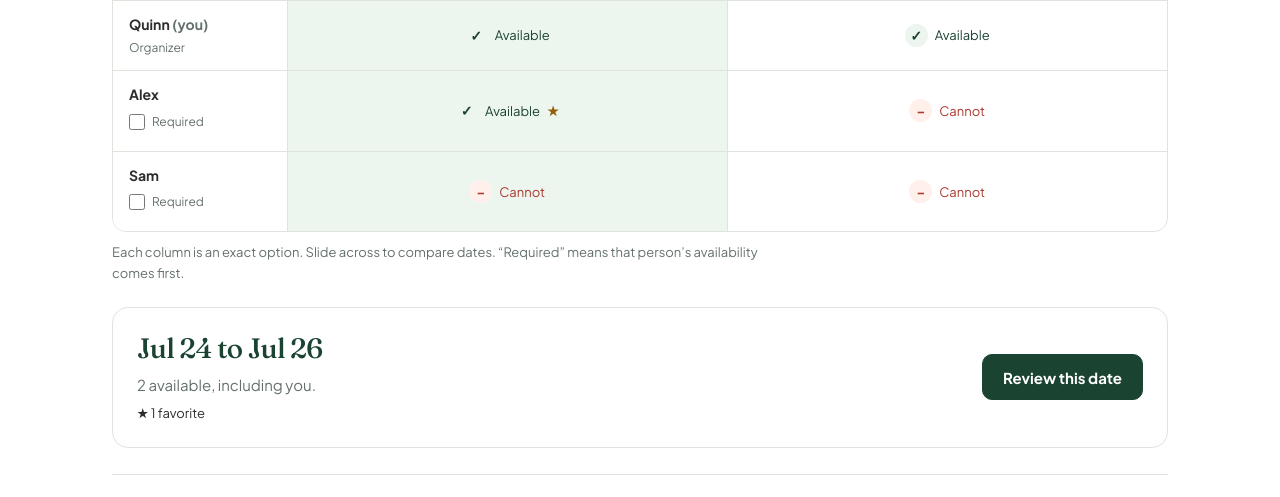
ManageTrip › confirms, retries the same date, displays confirmation, and reopens
(page scrolled)
Click the button with aria-label "Review Jul 24": (1062, 377) x1=982 y1=354 x2=1143 y2=400
(page scrolled)
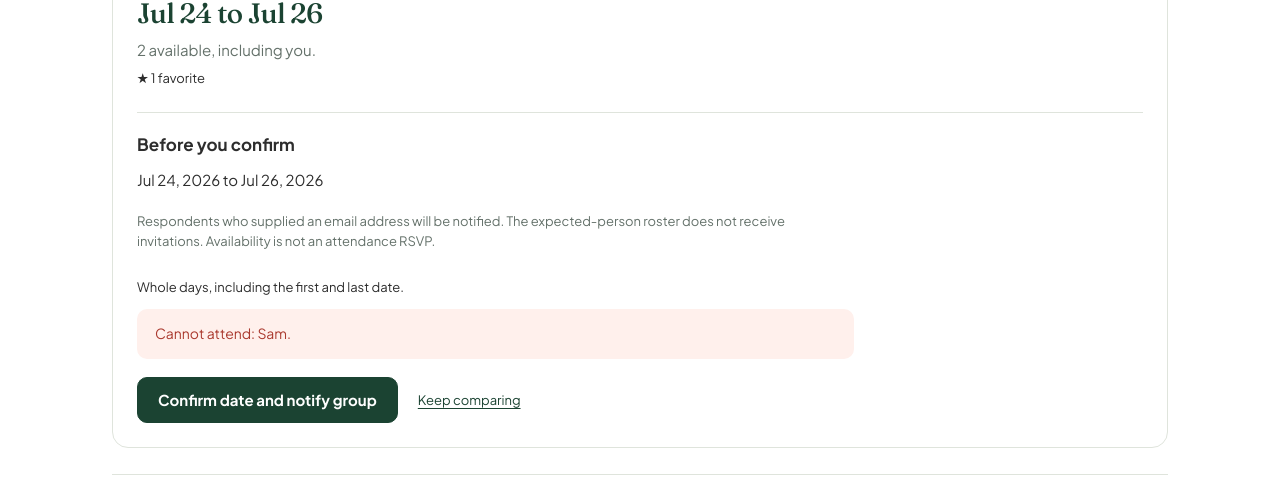
Result: the text "Cannot attend: Sam." is shown at x1=137 y1=309 x2=854 y2=359
Click the button with aria-label "Confirm Jul 24": (267, 400) x1=137 y1=377 x2=398 y2=423
(page scrolled)
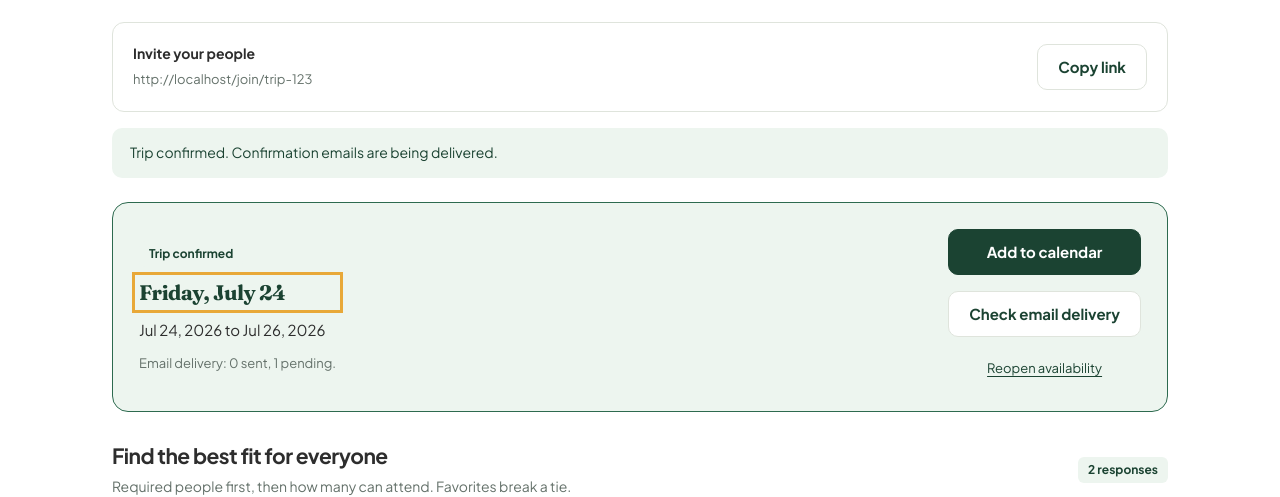
Result: the text "Trip confirmed" is shown at x1=139 y1=241 x2=243 y2=267
Result: the heading "Friday, July 24" is shown at x1=139 y1=279 x2=285 y2=305
Click the button "Check email delivery": (1045, 314) x1=948 y1=290 x2=1141 y2=336
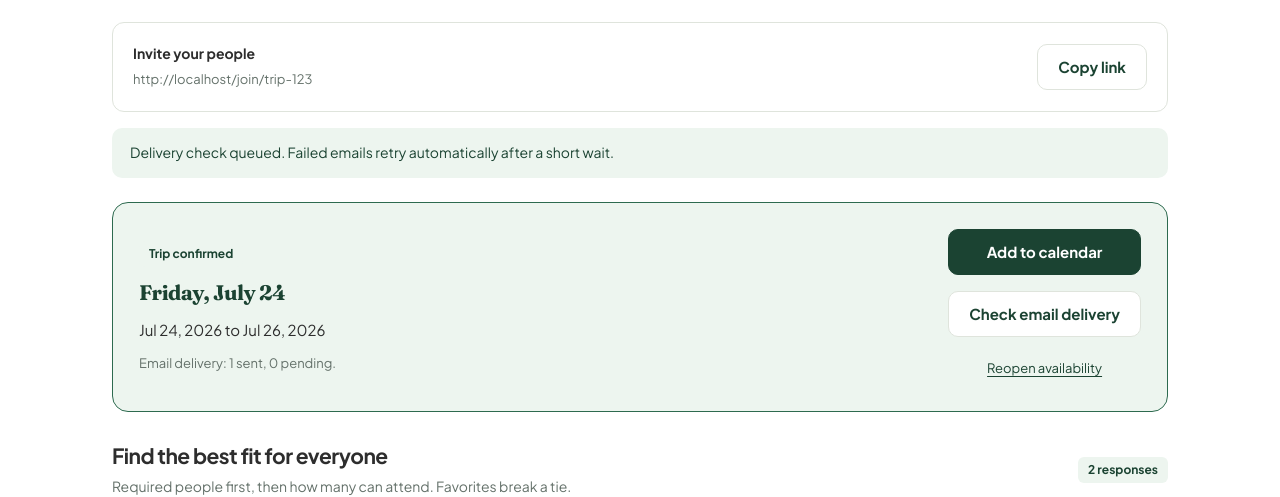
Result: the text "Delivery check queued. Failed emails retry automatically after a short wait." is shown at x1=112 y1=128 x2=1168 y2=178
Click the button "Reopen availability": (1045, 368) x1=948 y1=352 x2=1141 y2=384
(page scrolled)
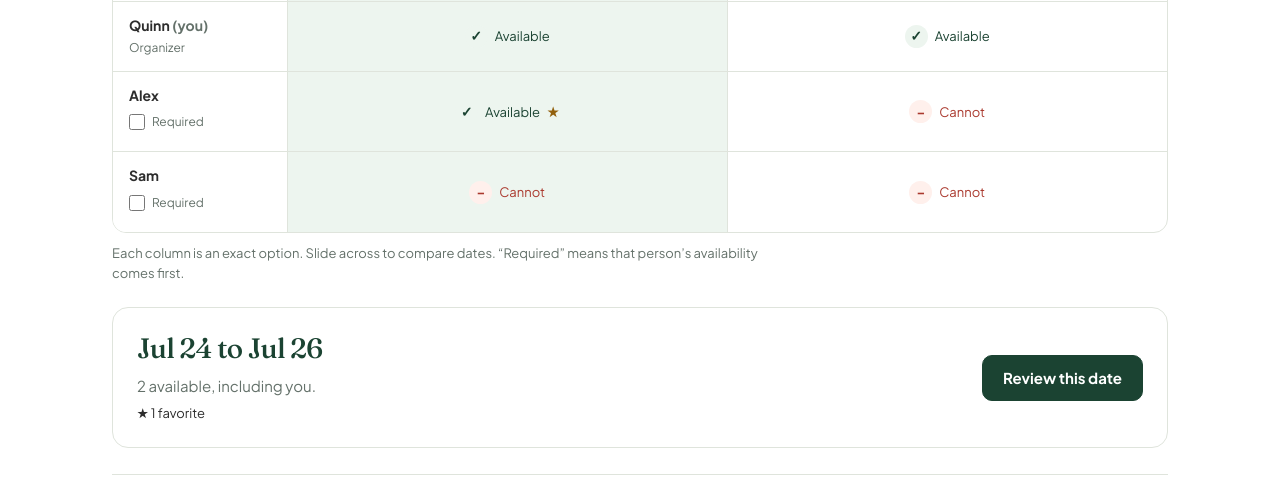
Result: the button with aria-label "Review Jul 24" is shown at x1=982 y1=355 x2=1143 y2=401
